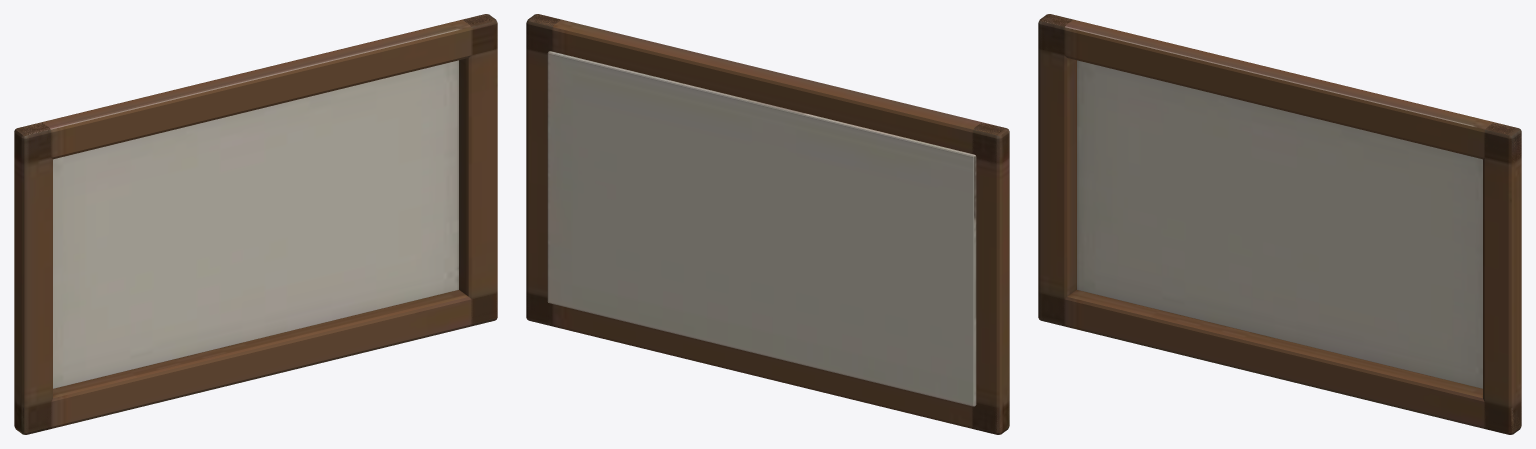
The model's file is dressing-frame-wide.glb.
The picture shows the model from 3 angles, left to right: view 1: azimuth 30°, elevation 25°; view 2: azimuth 150°, elevation 25°; view 3: azimuth 330°, elevation 25°; orthographic projection.
Parts seen in each view (by area): view 1: case-baked; view 2: case-baked; view 3: case-baked.
Part boxes in pixels (box(x1,y1,x2,y2)): case-baked: box(14, 14, 497, 434); case-baked: box(526, 14, 1009, 434); case-baked: box(1038, 14, 1521, 434).
Bounding box in the file's own units: 0.693 × 0.42 × 0.032.
Materials: 1 (1 with a texture image).
